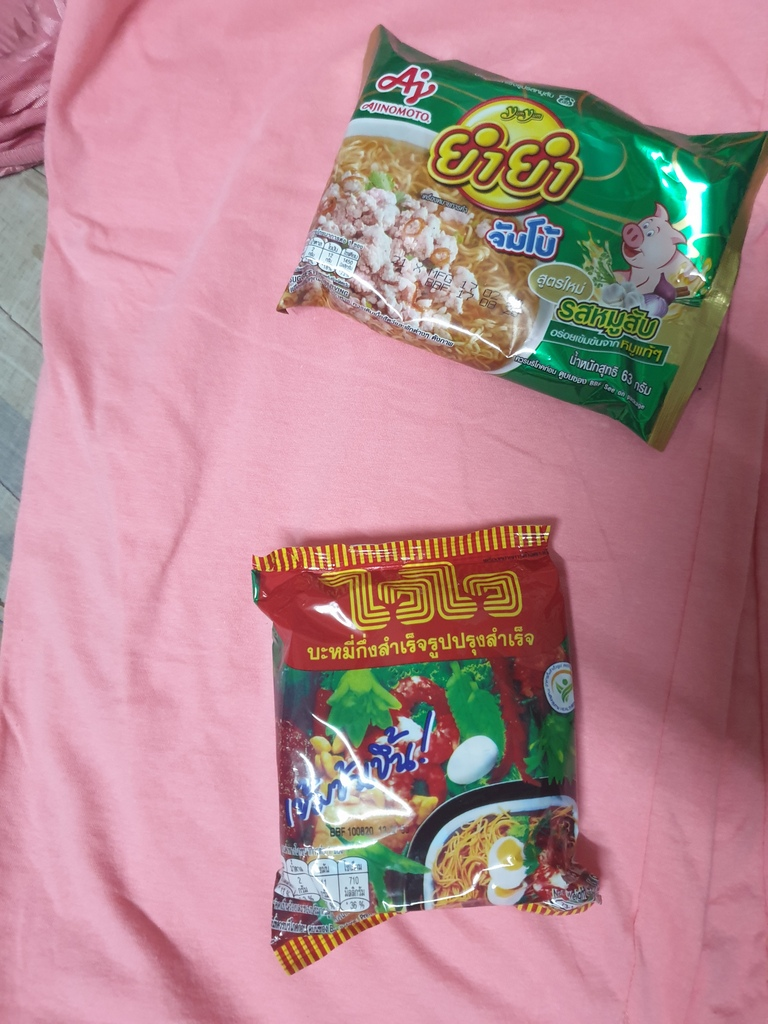waiwai: (242, 539, 607, 935)
yumyum: (320, 32, 751, 443)
